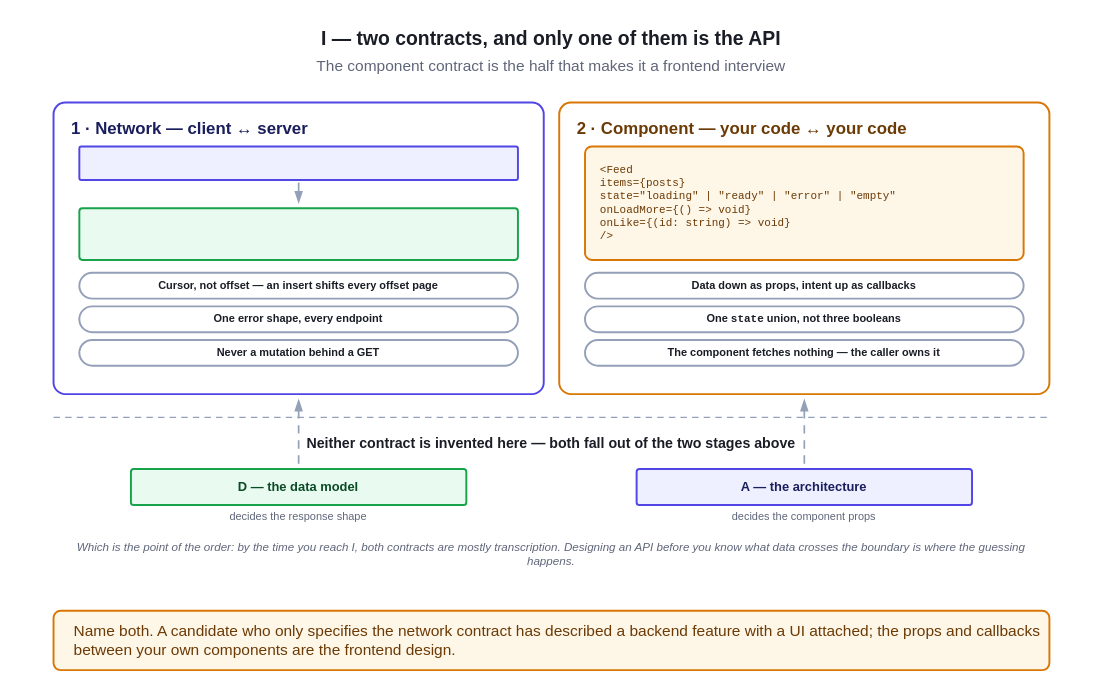
Image size: 1102x693. Some labels were removed from this diagram. The centre of each missing label's shape, as x and y in pixels:
"GET /feed?cursor=eyJ…&limit=20" goes at (x=298, y=162).
"{ items: Post[], nextCursor: string | null }" goes at (x=298, y=233).
